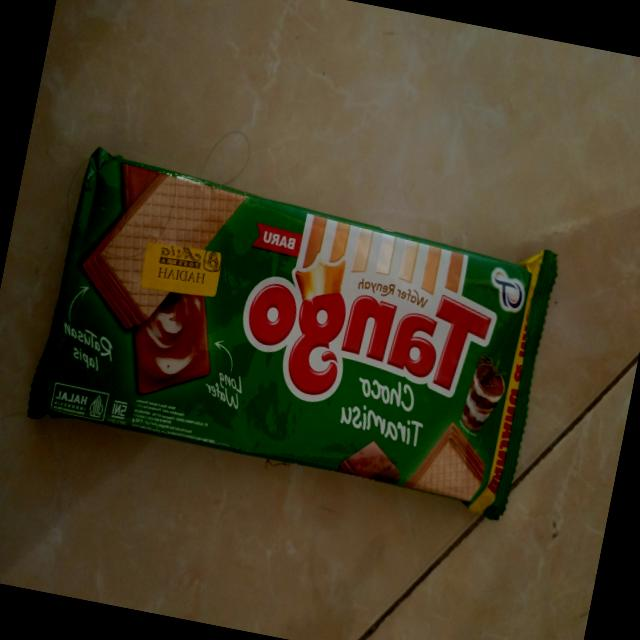tango-tiramisu: (22, 140, 564, 523)
